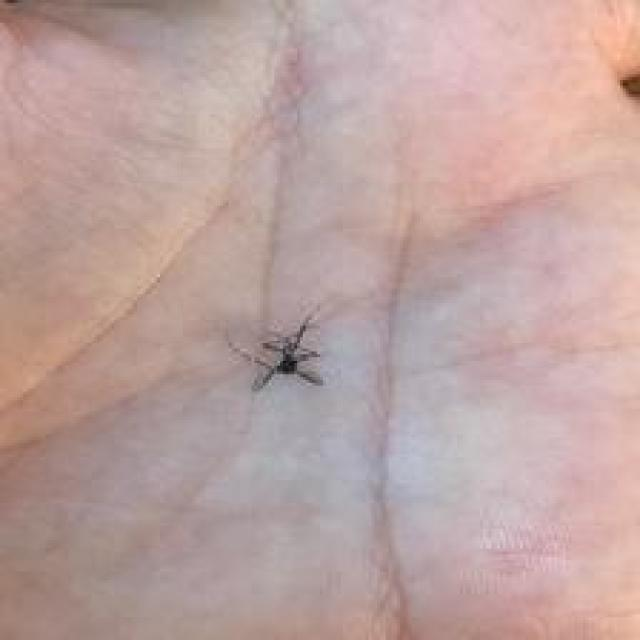Aedes albopictus: (226, 313, 326, 393)
